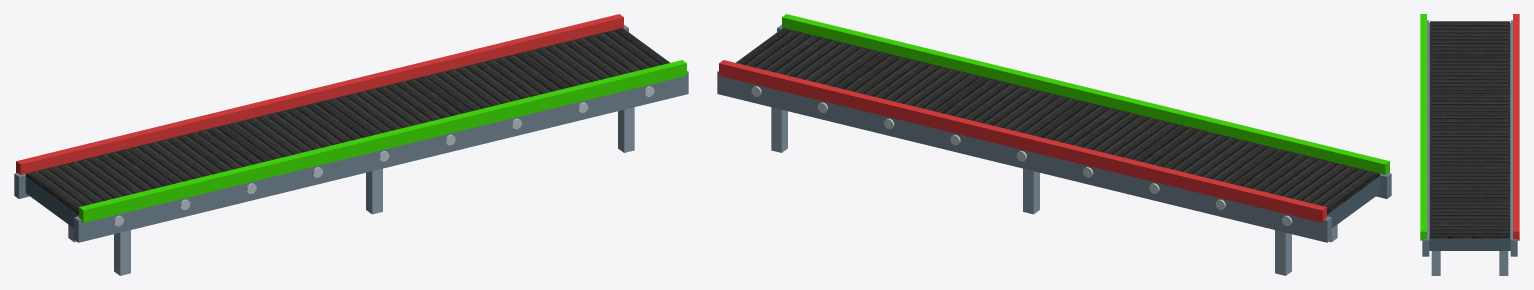
The model's file is conveyor_visual.glb.
3 renders of one model, left to right at view 1: azimuth 30°, elevation 25°; view 2: azimuth 150°, elevation 25°; view 3: azimuth 270°, elevation 25°, orthographic. The views are drawn at different scales.
Parts seen in each view (by area): view 1: BeltSurface, FrameRight, GuardRight, GuardLeft, BeltBody, LegRight2, LegRight1, LegRight3; view 2: BeltSurface, FrameLeft, GuardLeft, GuardRight, BeltBody, LegLeft2, LegLeft1, LegLeft3; view 3: BeltSurface, GuardLeft, GuardRight, BeltBody, FrameLeft, FrameRight, LegLeft3, LegRight3.
Boxes of the visible parts, <box> form: BeltSurface: <box>26,28,669,214</box>; FrameRight: <box>74,71,688,242</box>; GuardRight: <box>79,60,686,222</box>; GuardLeft: <box>16,14,623,174</box>; BeltBody: <box>25,176,78,227</box>; LegRight2: <box>366,168,382,214</box>; LegRight1: <box>114,230,130,275</box>; LegRight3: <box>618,107,634,152</box>; BeltSurface: <box>736,28,1379,214</box>; FrameLeft: <box>717,71,1331,242</box>; GuardLeft: <box>719,60,1326,222</box>; GuardRight: <box>782,14,1389,174</box>; BeltBody: <box>1327,176,1380,227</box>; LegLeft2: <box>1023,168,1039,214</box>; LegLeft1: <box>1275,230,1291,275</box>; LegLeft3: <box>771,107,787,152</box>; BeltSurface: <box>1430,21,1509,238</box>; GuardLeft: <box>1513,14,1519,240</box>; GuardRight: <box>1420,14,1426,240</box>; BeltBody: <box>1429,23,1510,250</box>; FrameLeft: <box>1510,20,1517,256</box>; FrameRight: <box>1422,20,1429,256</box>; LegLeft3: <box>1499,251,1508,275</box>; LegRight3: <box>1431,251,1440,275</box>.
Size of the model in its own units: 9.2 by 1.18 by 1.76.
Materials: 30 (1 with a texture image).
